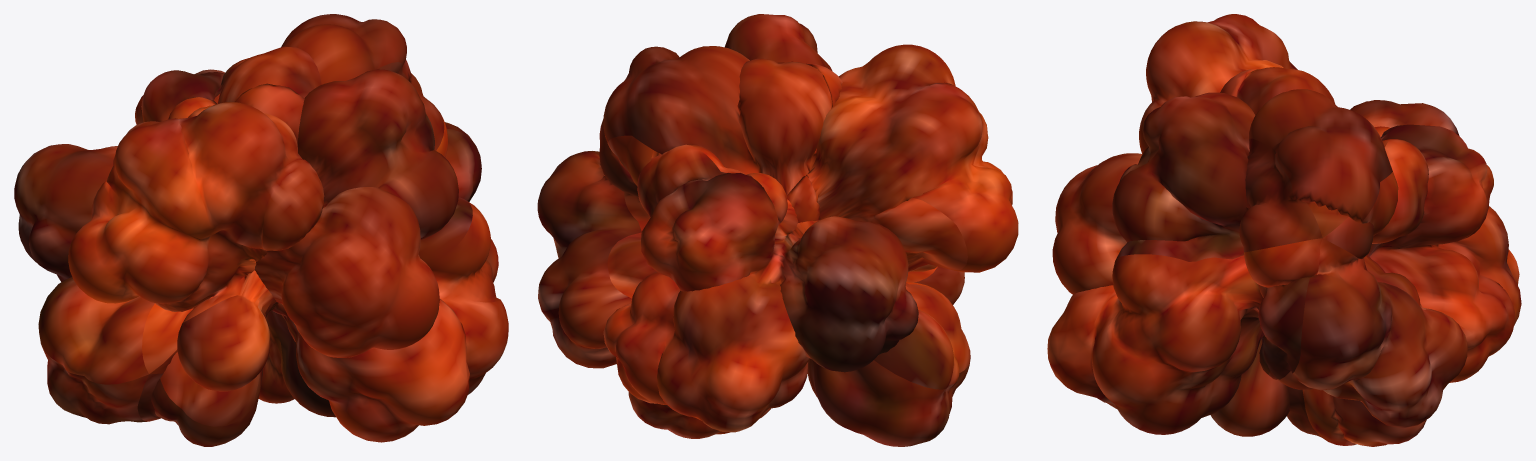
File: Fuego.obj
3 renders of one model, left to right at view 1: azimuth 30°, elevation 25°; view 2: azimuth 150°, elevation 25°; view 3: azimuth 270°, elevation 25°, orthographic. The views are drawn at different scales.
Visible parts, largest first — view 1: Explosion_blast_2_mesh; view 2: Explosion_blast_2_mesh; view 3: Explosion_blast_2_mesh.
Part boxes in pixels (box(x1,y1,x2,y2)): Explosion_blast_2_mesh: box(14, 14, 508, 446); Explosion_blast_2_mesh: box(537, 14, 1018, 446); Explosion_blast_2_mesh: box(1047, 14, 1521, 446).
Bounding box in the file's own units: 3.9 × 3.15 × 3.75.
